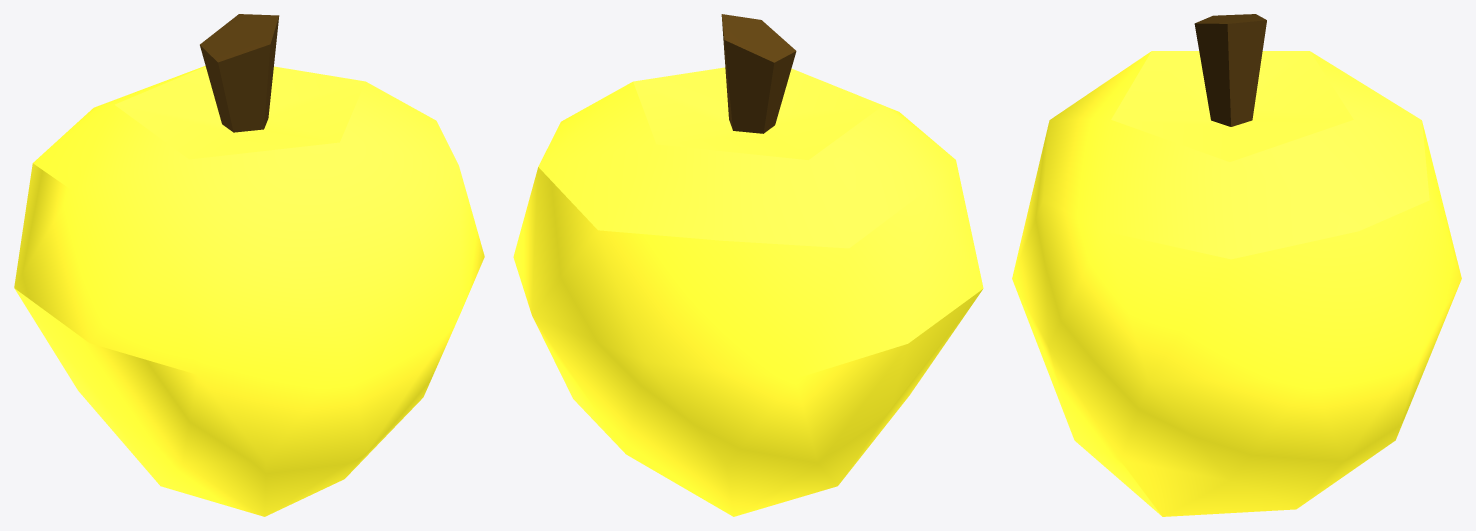
The model's file is GoldenApple.fbx.
3 renders of one model, left to right at view 1: azimuth 30°, elevation 25°; view 2: azimuth 150°, elevation 25°; view 3: azimuth 270°, elevation 25°, orthographic. The views are drawn at different scales.
Parts seen in each view (by area): view 1: GoldenApple; view 2: GoldenApple; view 3: GoldenApple.
Boxes of the visible parts, x1=… form: GoldenApple: x1=14, y1=14, x2=484, y2=516; GoldenApple: x1=513, y1=14, x2=983, y2=516; GoldenApple: x1=1012, y1=14, x2=1461, y2=516.
Size of the model in its own units: 379 by 415 by 354.
